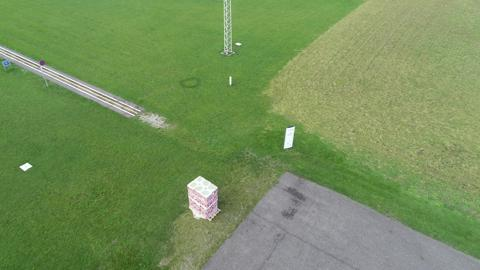RockwoolPallet: (186, 175, 220, 220)
